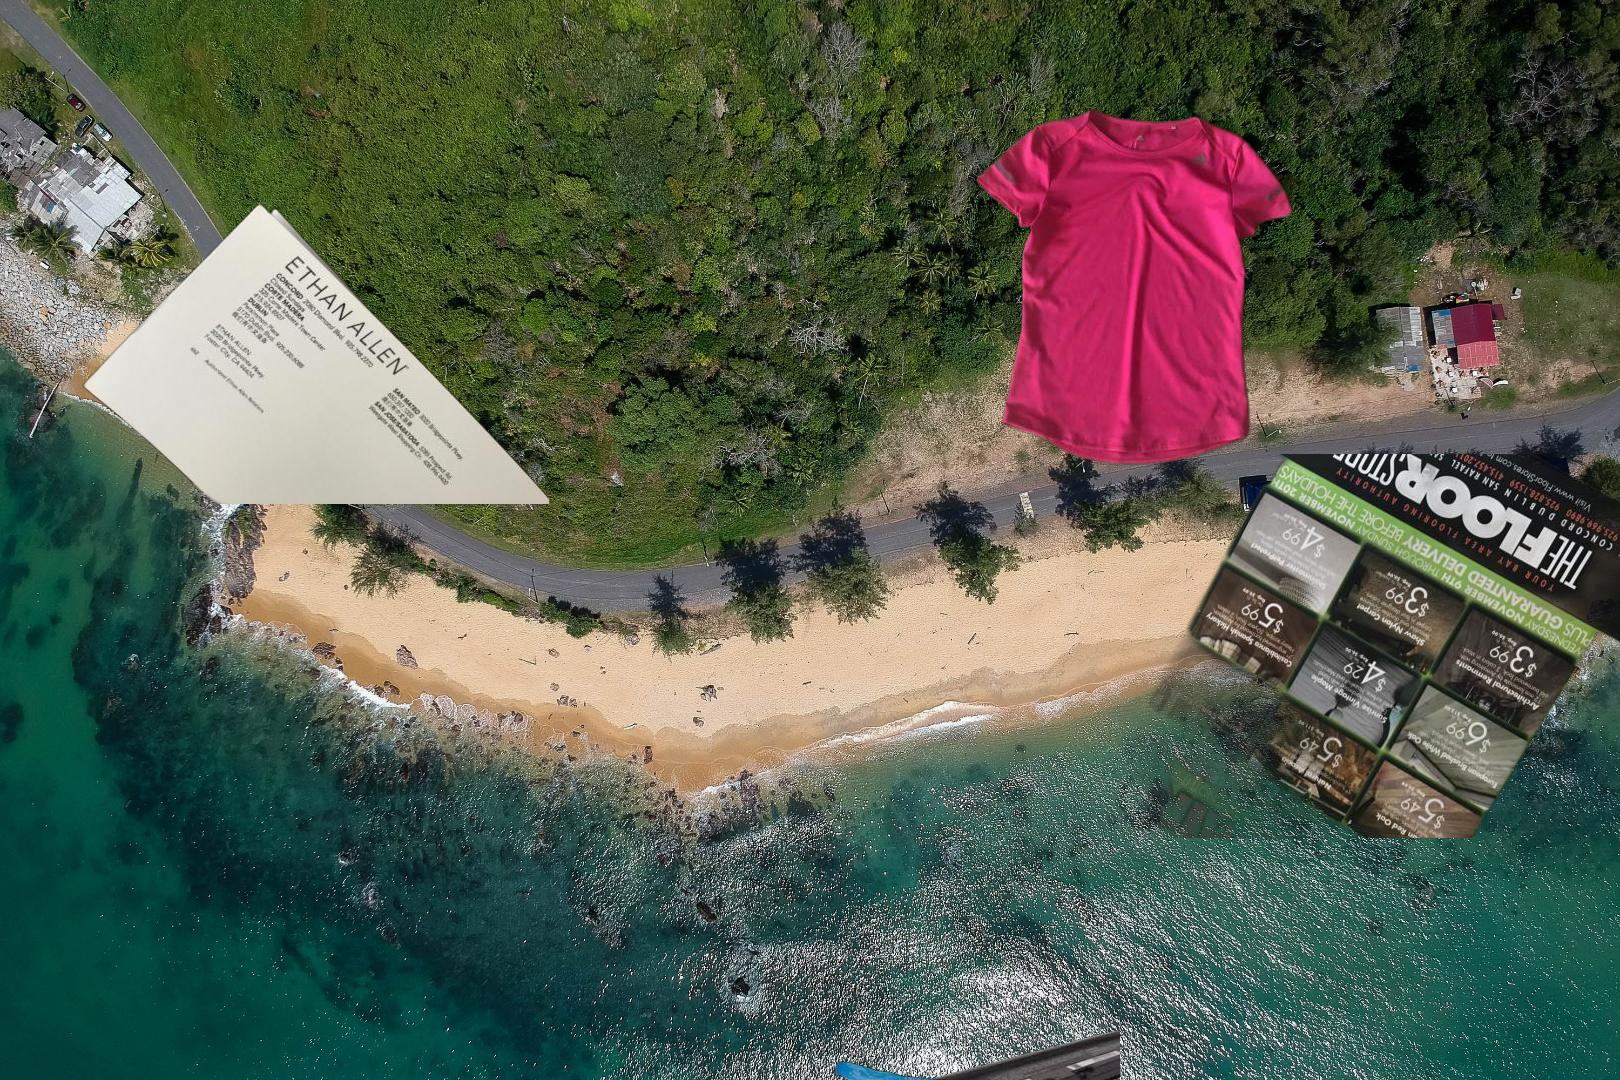battery: (896, 1028, 1120, 1080)
clothes: (974, 105, 1297, 469)
paper: (1122, 454, 1620, 838), (78, 200, 548, 504)
paper-bag: (1524, 859, 1620, 1080)
plastic-bag: (822, 1060, 985, 1080)
